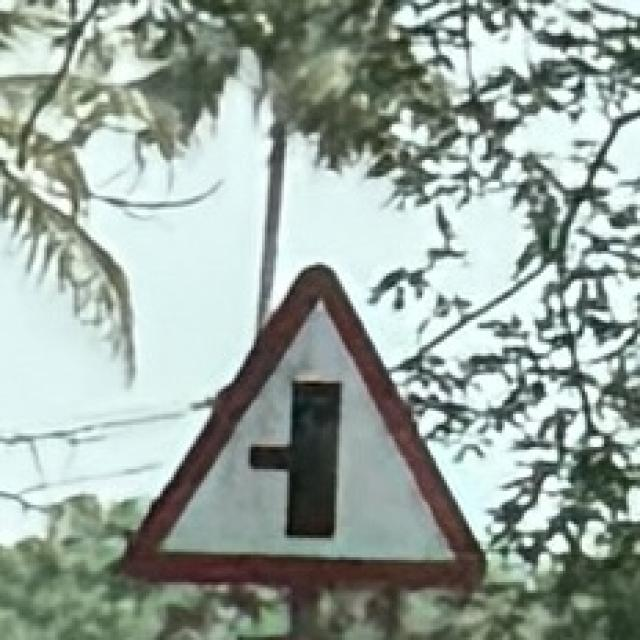SIDE_ROAD_LEFT: (94, 253, 498, 602)
